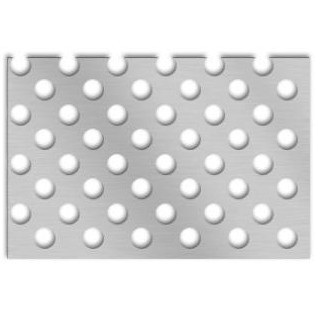Hole: (78, 76, 108, 103), (199, 151, 228, 178), (127, 76, 157, 102), (103, 151, 133, 177), (273, 76, 302, 102), (7, 102, 36, 128), (177, 76, 204, 103), (274, 175, 301, 202), (104, 102, 132, 128), (273, 126, 301, 152), (224, 225, 252, 251), (248, 151, 277, 176), (225, 77, 252, 103), (152, 101, 179, 127), (225, 126, 252, 152), (128, 126, 155, 152), (80, 224, 106, 251), (31, 175, 57, 202), (31, 223, 57, 250), (176, 126, 204, 151), (176, 226, 204, 251), (80, 126, 106, 152), (8, 151, 34, 177), (249, 200, 275, 226), (129, 225, 155, 251), (201, 101, 226, 128), (249, 101, 276, 126), (31, 126, 58, 151), (152, 151, 179, 176), (201, 199, 226, 226), (32, 77, 57, 103), (56, 102, 81, 128), (55, 151, 81, 176), (274, 225, 299, 251), (225, 175, 250, 201), (177, 175, 203, 200), (80, 176, 106, 201), (55, 201, 81, 226), (104, 201, 131, 225), (8, 200, 32, 227), (129, 175, 154, 200), (154, 201, 178, 226)
